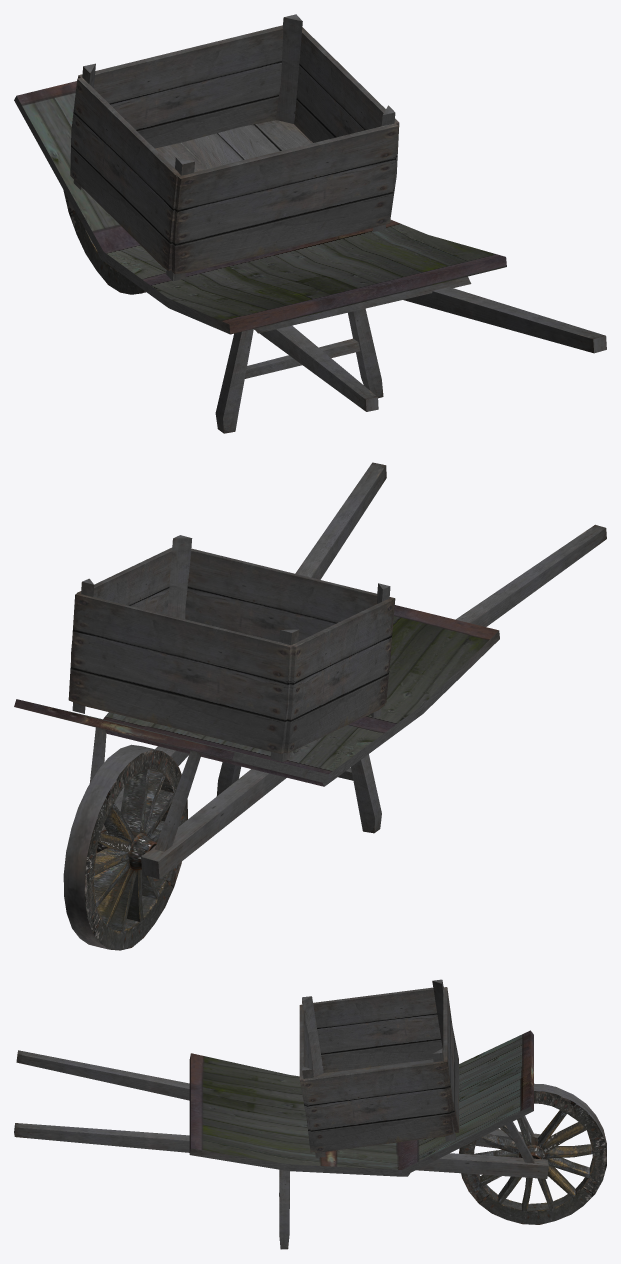
The model's file is barrow.fbx.
3 views of the same model, one above another, from view 1: azimuth 30°, elevation 25°; view 2: azimuth 150°, elevation 25°; view 3: azimuth 270°, elevation 25° (orthographic). The views are drawn at different scales.
Visible parts, largest first — view 1: Mesh Object; view 2: Mesh Object; view 3: Mesh Object.
Part boxes in pixels (x1,y1,x2,y2): Mesh Object: (14, 14, 606, 433); Mesh Object: (14, 462, 606, 950); Mesh Object: (14, 979, 606, 1249).
Bounding box in the file's own units: 0.7852 × 0.793 × 2.07.
